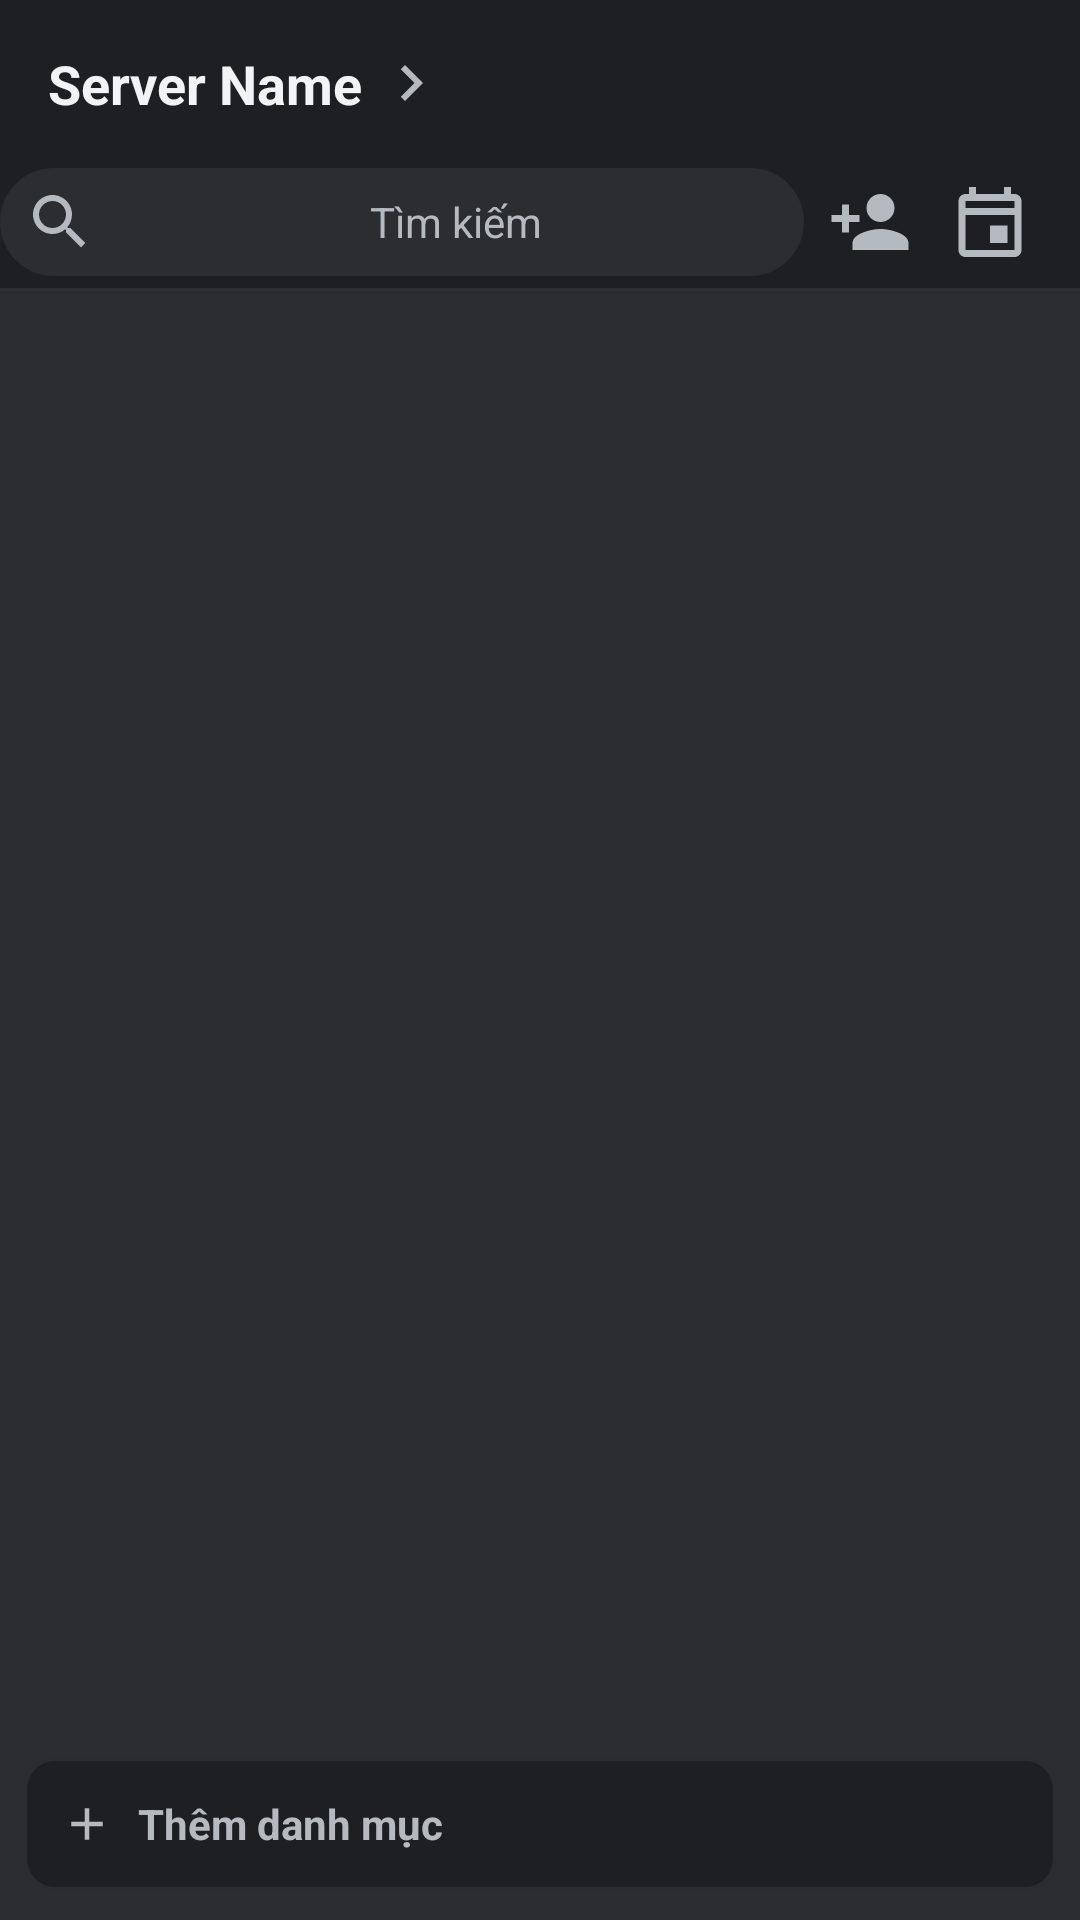

Icon click points for this 1080*1920 phone screenshot, format (x=x, y=y):
event: (x=990, y=222)
person add: (x=870, y=222)
plus: (x=87, y=1824)
